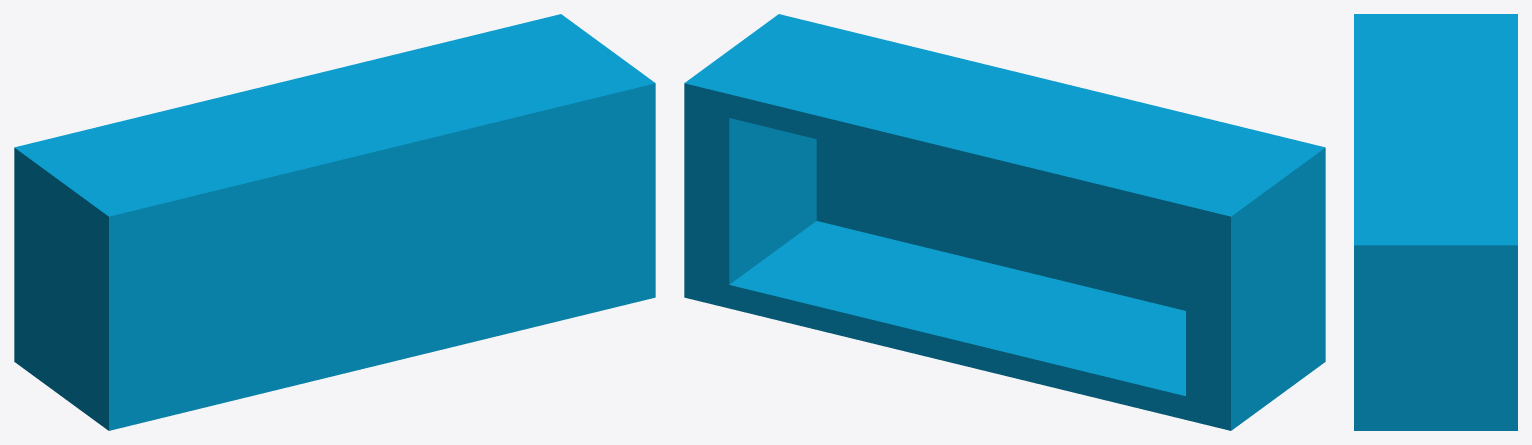
Rendered from Factory_Machine_Mod_01_Lod0.fbx.
3 views of the same model, side by side, from view 1: azimuth 30°, elevation 25°; view 2: azimuth 150°, elevation 25°; view 3: azimuth 270°, elevation 25° (orthographic). The views are drawn at different scales.
Parts seen in each view (by area): view 1: Factory_Machine_Mod_01_Lod0; view 2: Factory_Machine_Mod_01_Lod0; view 3: Factory_Machine_Mod_01_Lod0.
Boxes of the visible parts, bbox=[...] form: Factory_Machine_Mod_01_Lod0: bbox=[14, 14, 655, 430]; Factory_Machine_Mod_01_Lod0: bbox=[684, 14, 1325, 430]; Factory_Machine_Mod_01_Lod0: bbox=[1354, 14, 1517, 430].
Size of the model in its own units: 246 by 92.22 by 73.79.
